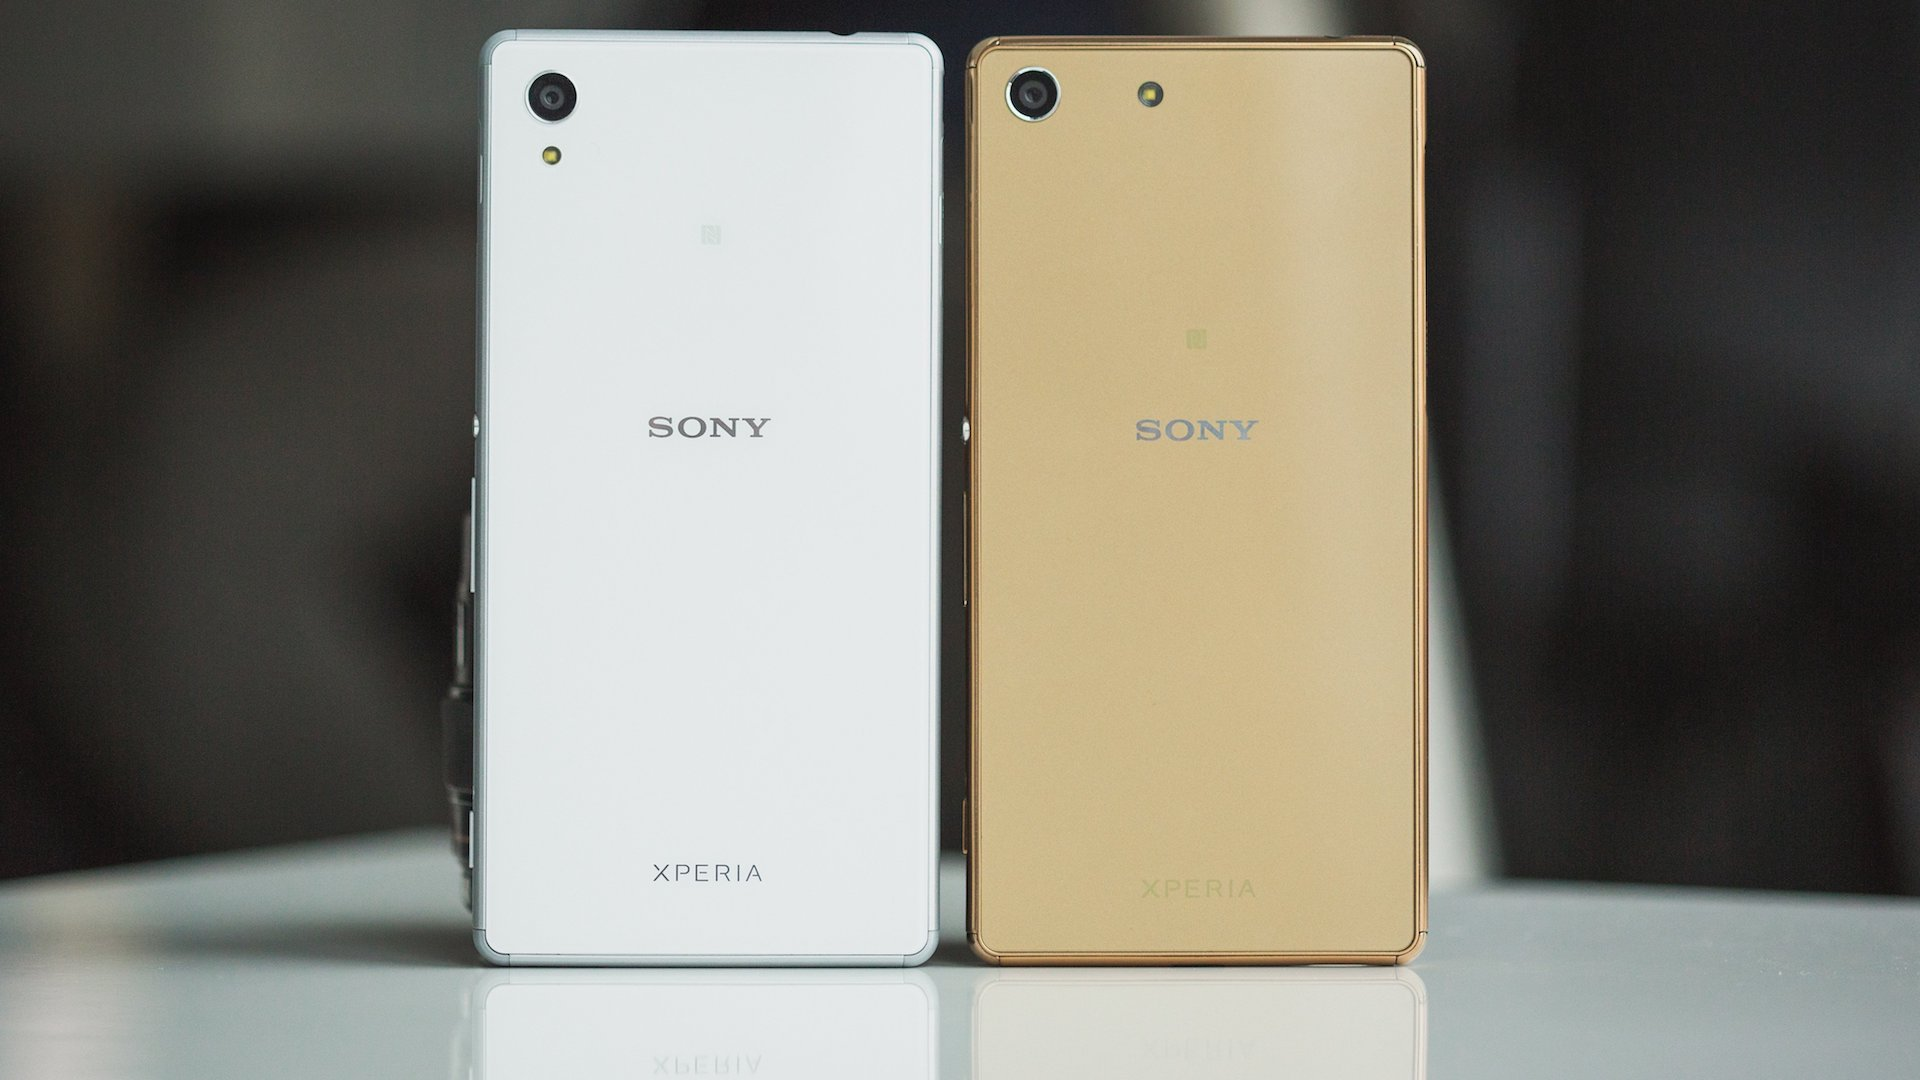smartphone: (464, 24, 942, 963), (967, 33, 1436, 968)
